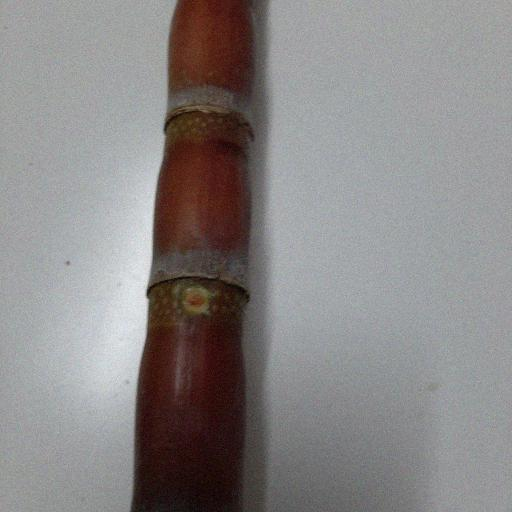Damage_Bud: (180, 284, 212, 315)
